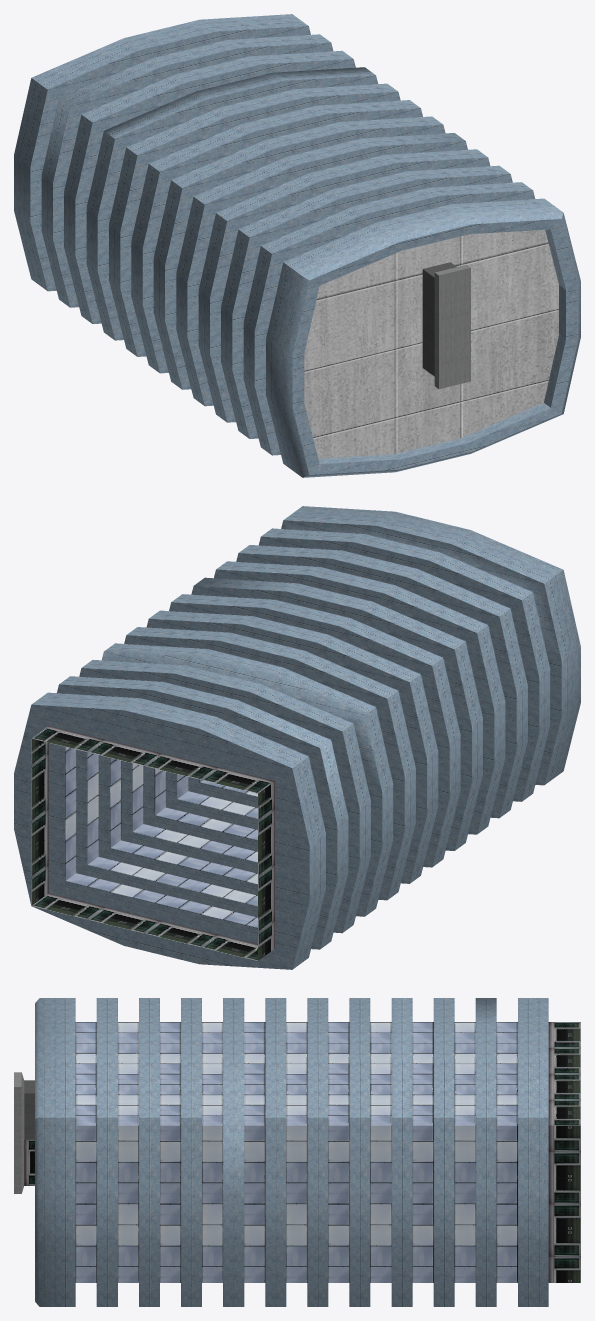
The model's file is skyscraper_windowG_04.obj.
The picture shows the model from 3 angles, top to bottom: view 1: azimuth 30°, elevation 25°; view 2: azimuth 150°, elevation 25°; view 3: azimuth 270°, elevation 25°; orthographic projection. The views are drawn at different scales.
Parts seen in each view (by area): view 1: Object68; view 2: Object68; view 3: Object68.
Part boxes in pixels (left/top/right/bottom): Object68: left=14, top=14, right=580, bottom=477; Object68: left=14, top=506, right=580, bottom=969; Object68: left=14, top=998, right=580, bottom=1306.
Size of the model in its own units: 42.08 by 32.04 by 74.45.
6 materials, 6 textured.
